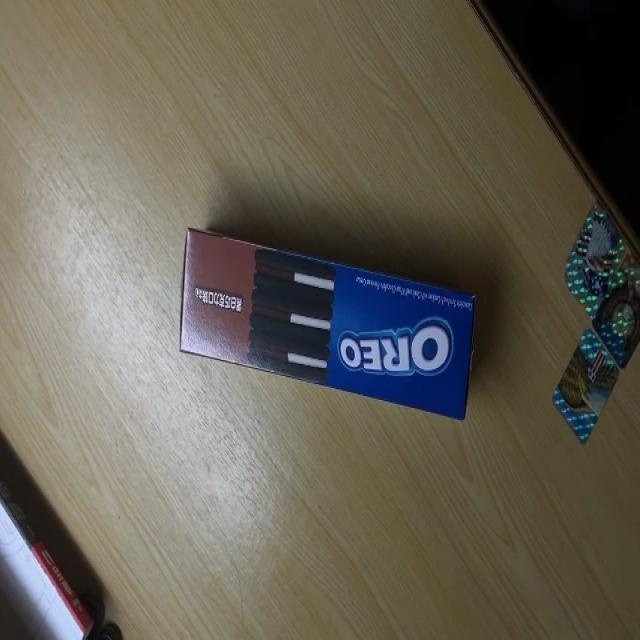Oreo: (178, 230, 478, 439)
